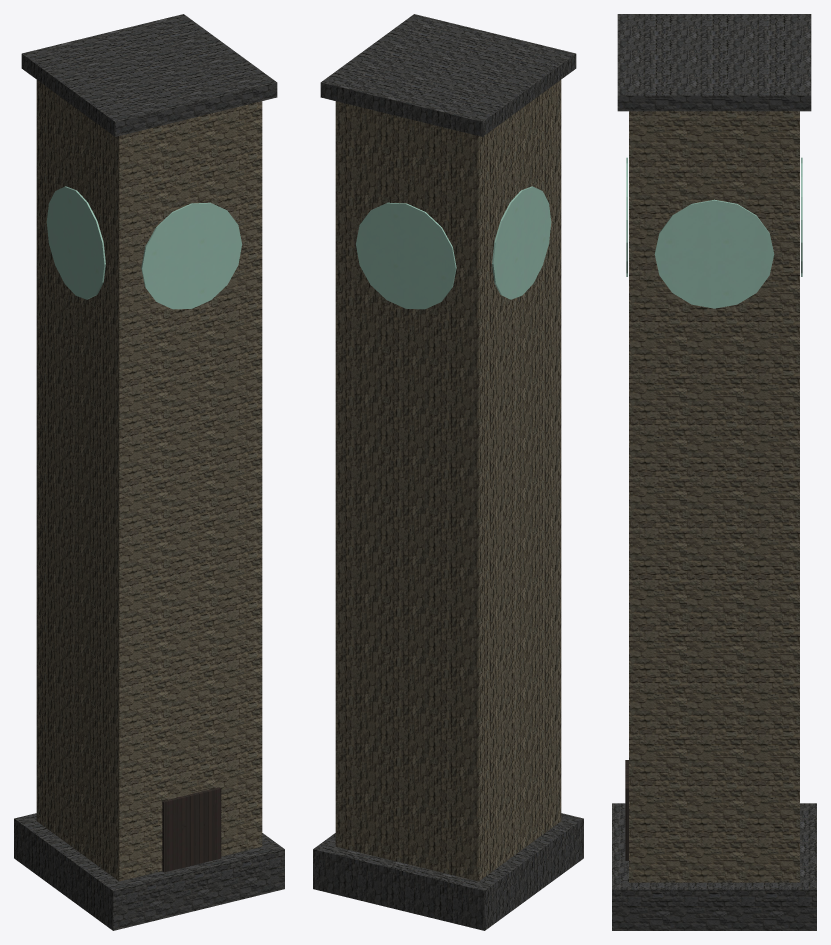
Rendered from crossing_clocktower_01.glb.
3 renders of one model, left to right at view 1: azimuth 30°, elevation 25°; view 2: azimuth 150°, elevation 25°; view 3: azimuth 270°, elevation 25°, orthographic. The views are drawn at different scales.
Visible parts, largest first — view 1: crossing_clocktower_01; view 2: crossing_clocktower_01; view 3: crossing_clocktower_01.
Part boxes in pixels (x1=…): crossing_clocktower_01: x1=14, y1=14, x2=284, y2=930; crossing_clocktower_01: x1=313, y1=14, x2=583, y2=930; crossing_clocktower_01: x1=612, y1=14, x2=816, y2=930.
Bounding box in the file's own units: 3.6 × 16.15 × 3.6.
4 materials, 4 textured.
